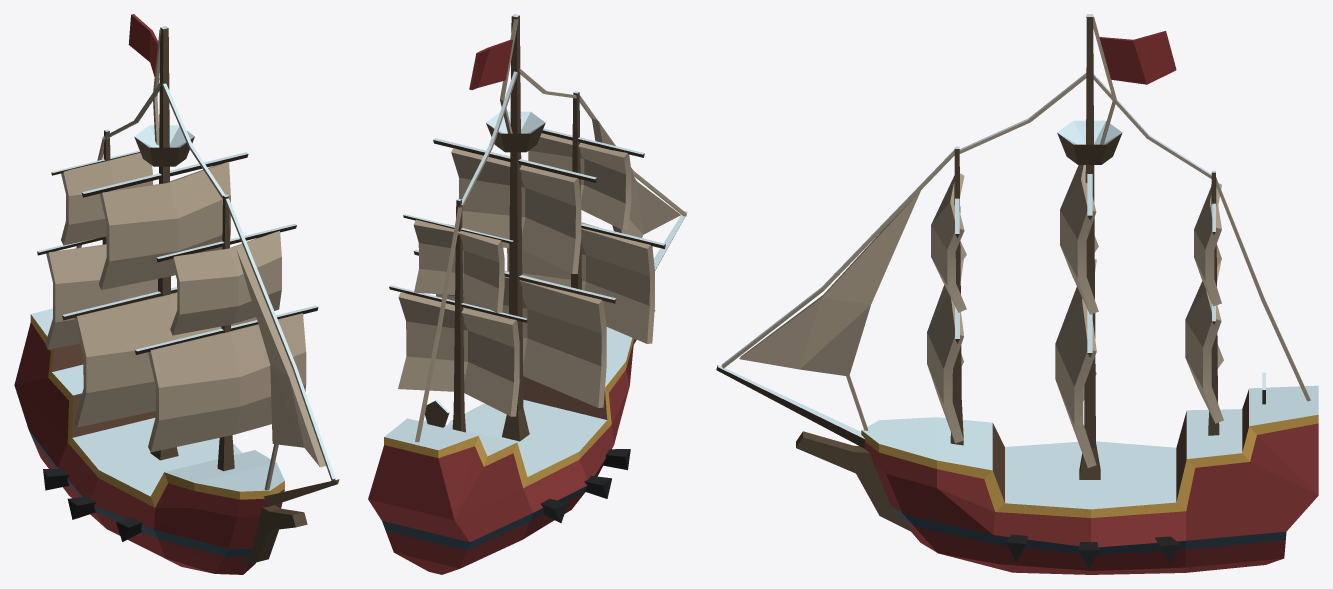
The model's file is SM_Prop_Pirate_Boat_01_Snow.fbx.
The picture shows the model from 3 angles, left to right: view 1: azimuth 30°, elevation 25°; view 2: azimuth 150°, elevation 25°; view 3: azimuth 270°, elevation 25°; orthographic projection. The views are drawn at different scales.
Parts seen in each view (by area): view 1: SM_Prop_Pirate_Boat_01_Snow; view 2: SM_Prop_Pirate_Boat_01_Snow; view 3: SM_Prop_Pirate_Boat_01_Snow.
Boxes of the visible parts, x1=… form: SM_Prop_Pirate_Boat_01_Snow: x1=14, y1=14, x2=339, y2=574; SM_Prop_Pirate_Boat_01_Snow: x1=368, y1=14, x2=687, y2=574; SM_Prop_Pirate_Boat_01_Snow: x1=716, y1=14, x2=1318, y2=574.
Size of the model in its own units: 73 by 174 by 173.
1 material, 1 textured.
